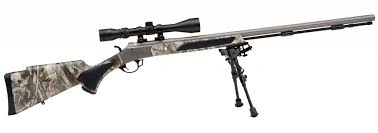Arma Real: (2, 14, 378, 113)
